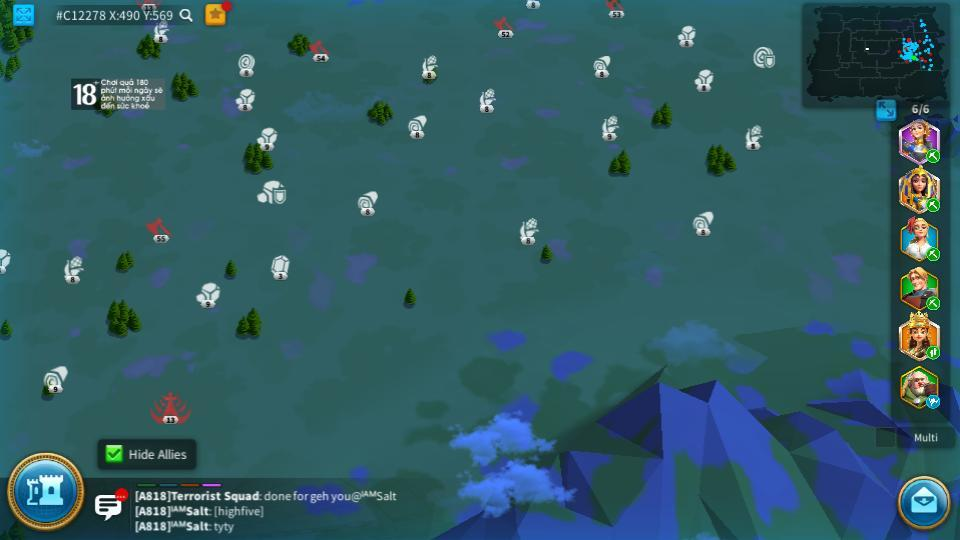gem-z-out: (269, 254, 292, 278)
march_idle: (925, 396, 942, 408)
march_marching: (925, 196, 941, 211), (925, 345, 941, 359), (925, 150, 942, 162), (925, 248, 941, 260), (925, 297, 942, 308)
